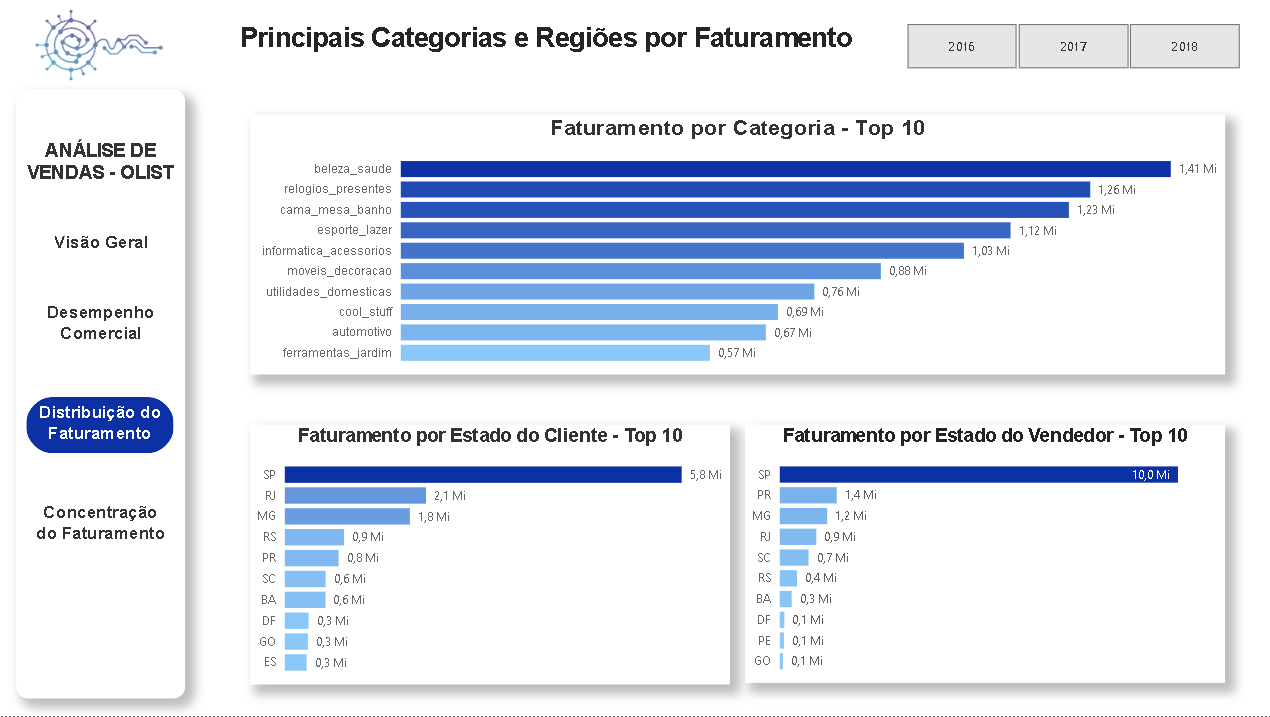

The page's visual inventory and layout, read from the dashboard file:
{"tool":"powerbi","page":{"name":"Distribuição do Faturamento","canvas":[1280,720],"ordinal":2},"visuals":[{"type":"barChart","title":"Faturamento por Categoria - Top 10","fields":{"Category":["dim_products.category_name"],"Y":["Medidas.total_vendas"]},"box":[250,117.5,975,260],"z":0},{"type":"barChart","title":"Faturamento por Estado do Cliente - Top 10","fields":{"Category":["dim_customers.customer_state"],"Y":["Medidas.total_vendas"]},"box":[250,427.5,480,260],"z":1000},{"type":"shape","box":[16.2,92.5,168.8,608.8],"z":2000},{"type":"actionButton","box":[21.2,117.5,158.8,95],"z":3000},{"type":"image","box":[27.5,8.8,143.8,78.8],"z":4000},{"type":"barChart","title":"Faturamento por Estado do Vendedor - Top 10","fields":{"Category":["dim_sellers.seller_state"],"Y":["Medidas.total_vendas"]},"box":[745,427.5,480,258.8],"z":5000},{"type":"textbox","box":[211.2,20,670,45],"z":6000},{"type":"slicer","fields":{"Values":["dim_date.date_key.Variation.Hierarquia de datas.Ano"]},"box":[880.8,20,382.5,58.3],"z":7000},{"type":"actionButton","box":[27.5,230,147.5,35],"z":8000},{"type":"actionButton","box":[27.5,300,146.2,56.2],"z":9000},{"type":"actionButton","box":[26.2,400,147.5,56.2],"z":10000},{"type":"actionButton","box":[27.5,500,146.2,57.5],"z":11000}]}

Visuals, with their boxes in screenshot pixels (x1, y1, x2, y2), scaled from the page's 1280x720 canvas onto the 1270x717 screenshot:
"Faturamento por Categoria - Top 10" barChart: (248,117,1215,376)
"Faturamento por Estado do Cliente - Top 10" barChart: (248,426,724,685)
shape: (16,92,184,698)
actionButton: (21,117,179,212)
image: (27,9,170,87)
"Faturamento por Estado do Vendedor - Top 10" barChart: (739,426,1215,683)
textbox: (210,20,874,65)
slicer - dim_date.date_key.Variation.Hierarquia de datas.Ano: (874,20,1253,78)
actionButton: (27,229,174,264)
actionButton: (27,299,172,355)
actionButton: (26,398,172,454)
actionButton: (27,498,172,555)
